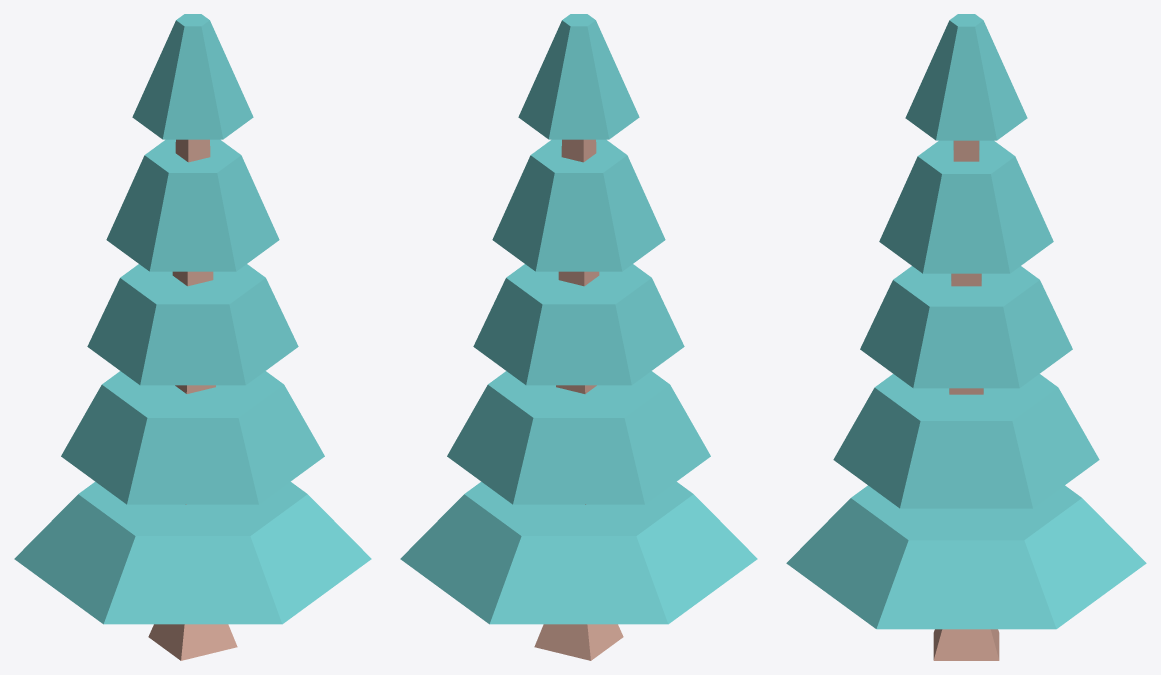
Rendered from tree_pineRoundA.gltf.
3 renders of one model, left to right at view 1: azimuth 30°, elevation 25°; view 2: azimuth 150°, elevation 25°; view 3: azimuth 270°, elevation 25°, orthographic.
Visible parts, largest first — view 1: tree_pineRoundA; view 2: tree_pineRoundA; view 3: tree_pineRoundA.
Boxes of the visible parts, bbox=[...] form: tree_pineRoundA: bbox=[14, 14, 371, 660]; tree_pineRoundA: bbox=[400, 14, 757, 660]; tree_pineRoundA: bbox=[786, 14, 1146, 660].
Bounding box in the file's own units: 0.617 × 1.37 × 0.7125.
